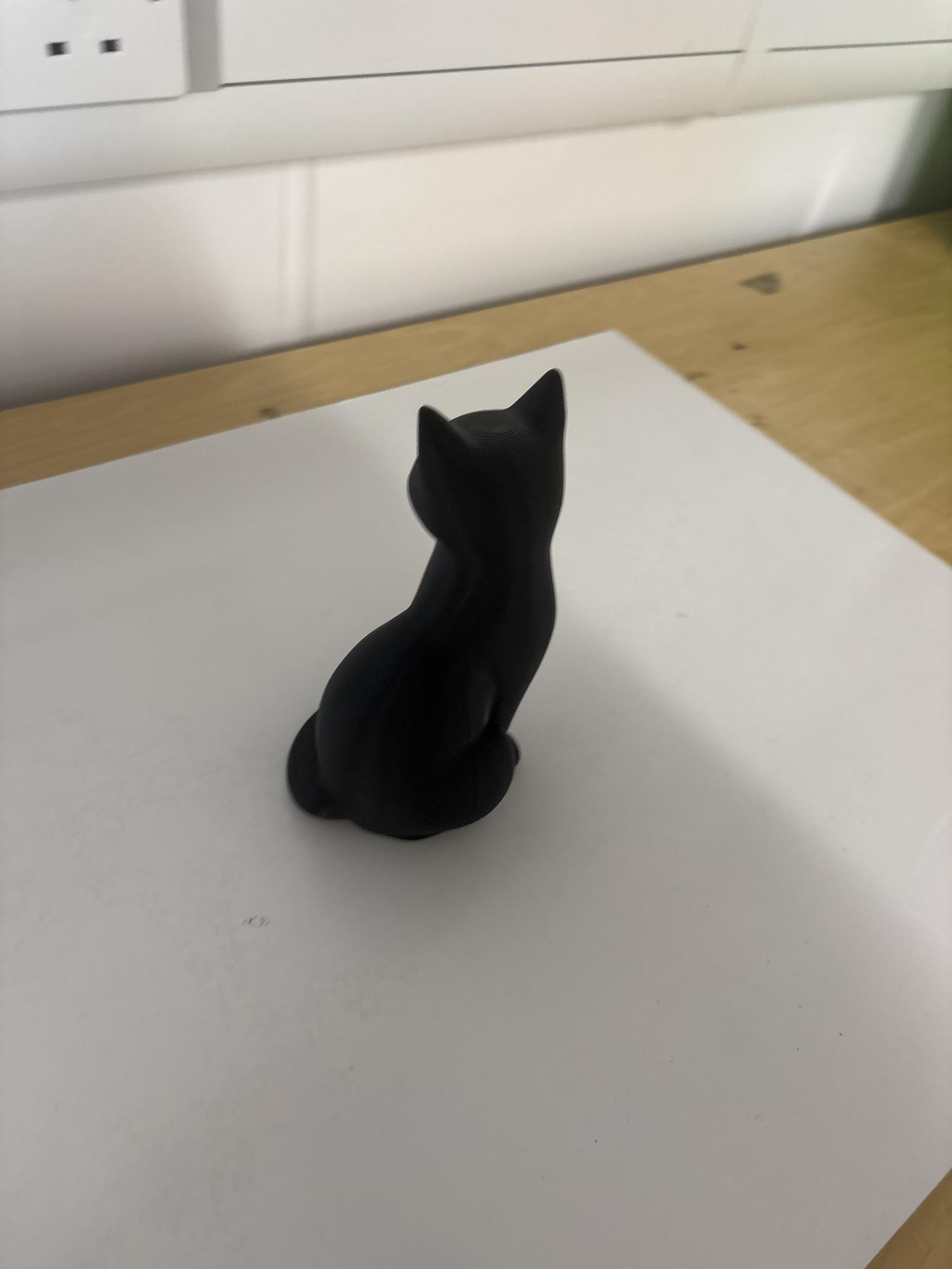cat: (288, 370, 565, 838)
